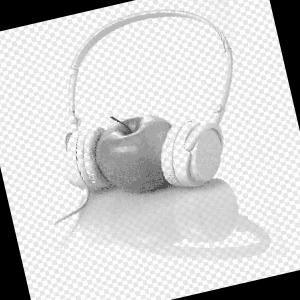fruit: (77, 93, 207, 214)
